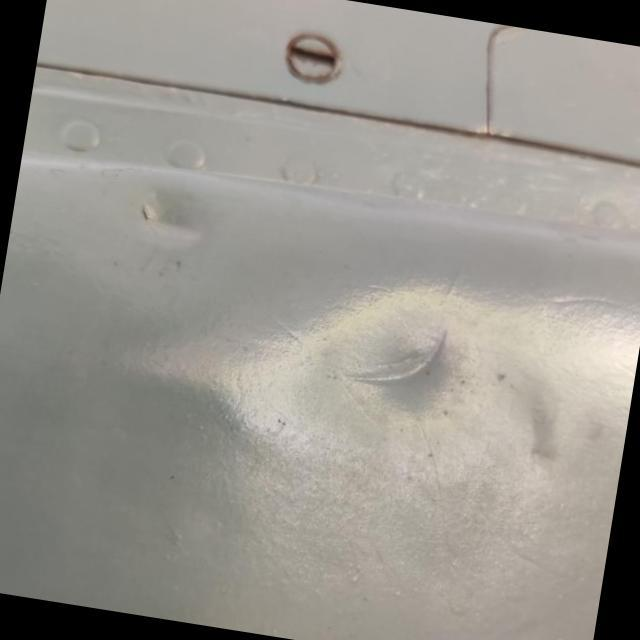Dent: (296, 266, 487, 455), (98, 164, 234, 278)
